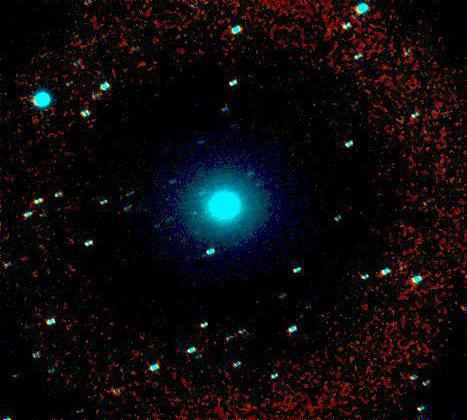star: (182, 199, 212, 229)
